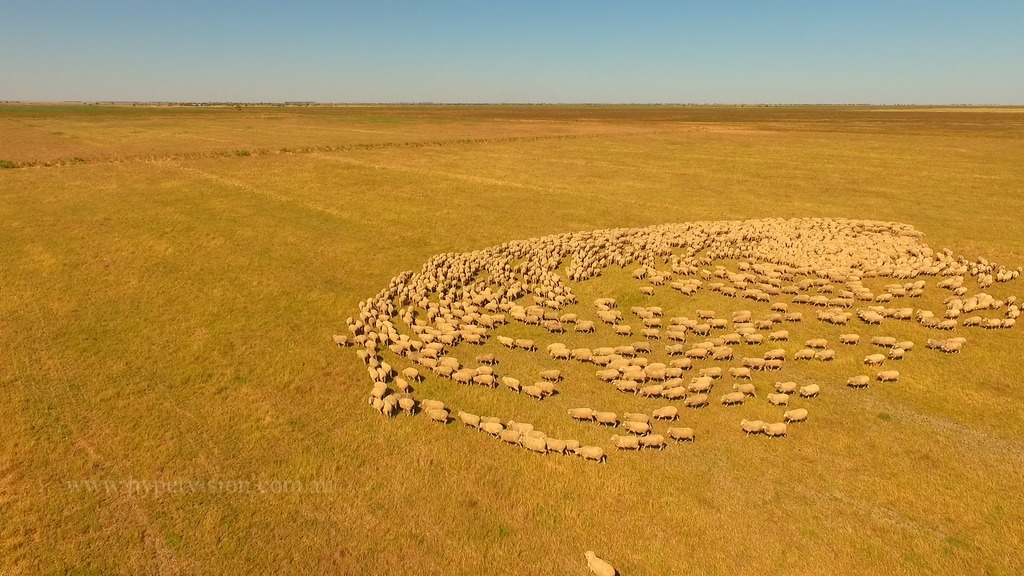sheep: (574, 444, 609, 466), (455, 409, 480, 434), (521, 433, 547, 457), (608, 432, 639, 452), (592, 405, 616, 428), (665, 426, 693, 444), (480, 419, 505, 439), (739, 418, 763, 437), (622, 420, 650, 436), (639, 435, 665, 452), (762, 422, 788, 439), (418, 397, 445, 413), (567, 407, 593, 423), (654, 406, 679, 422), (741, 355, 766, 371), (471, 374, 497, 389), (501, 374, 520, 394), (423, 408, 448, 423), (499, 430, 522, 446), (786, 406, 809, 422), (621, 411, 649, 424), (612, 378, 636, 393), (733, 382, 757, 397), (452, 370, 473, 387), (771, 381, 798, 394), (846, 375, 871, 389), (871, 334, 896, 348), (720, 393, 746, 406), (763, 349, 789, 362), (730, 365, 751, 381), (878, 369, 900, 384), (594, 369, 619, 382), (574, 320, 597, 334), (685, 394, 708, 408), (929, 337, 949, 353), (794, 347, 815, 362), (941, 339, 962, 354), (799, 384, 821, 398), (392, 376, 409, 394), (523, 385, 542, 401), (535, 380, 555, 395), (768, 391, 788, 406), (804, 336, 827, 349), (839, 331, 860, 345), (641, 326, 659, 342), (720, 332, 742, 345), (768, 329, 790, 342), (539, 369, 562, 381), (863, 354, 886, 366), (698, 368, 723, 379), (476, 316, 497, 329), (544, 320, 565, 333), (367, 395, 382, 413), (549, 350, 573, 361), (668, 359, 692, 370), (664, 330, 686, 342), (732, 310, 754, 322), (640, 386, 663, 397), (685, 349, 708, 360), (614, 322, 632, 336), (765, 302, 790, 312), (366, 365, 379, 384), (403, 368, 422, 381), (417, 357, 436, 370), (718, 284, 737, 297), (815, 351, 837, 362), (355, 349, 370, 365), (691, 323, 711, 335), (435, 365, 452, 379), (517, 338, 535, 351), (438, 335, 457, 347), (665, 343, 684, 355), (855, 290, 874, 302), (463, 334, 483, 345), (426, 342, 444, 354), (546, 343, 567, 353), (985, 315, 1000, 329), (784, 311, 803, 322), (963, 316, 982, 327), (510, 310, 526, 323), (887, 348, 904, 360), (939, 318, 956, 330), (592, 347, 614, 356), (876, 294, 894, 305), (1003, 316, 1016, 331), (696, 308, 715, 318), (670, 315, 689, 325), (828, 315, 847, 325), (560, 313, 577, 324), (333, 335, 348, 347), (498, 336, 513, 348), (491, 313, 506, 325), (616, 347, 636, 356), (745, 334, 763, 344), (792, 295, 810, 305), (837, 288, 853, 299), (390, 344, 404, 356), (756, 319, 771, 330), (639, 286, 655, 296), (409, 338, 421, 351), (743, 289, 762, 297), (422, 348, 438, 357), (707, 282, 723, 291), (483, 302, 497, 312), (669, 281, 683, 291), (531, 295, 543, 306), (378, 331, 388, 344), (543, 311, 559, 319), (910, 289, 925, 297), (546, 300, 560, 308), (602, 315, 616, 323), (368, 330, 378, 341), (411, 325, 423, 334), (461, 315, 473, 324), (700, 269, 710, 279), (349, 325, 358, 336), (1006, 295, 1016, 304)
